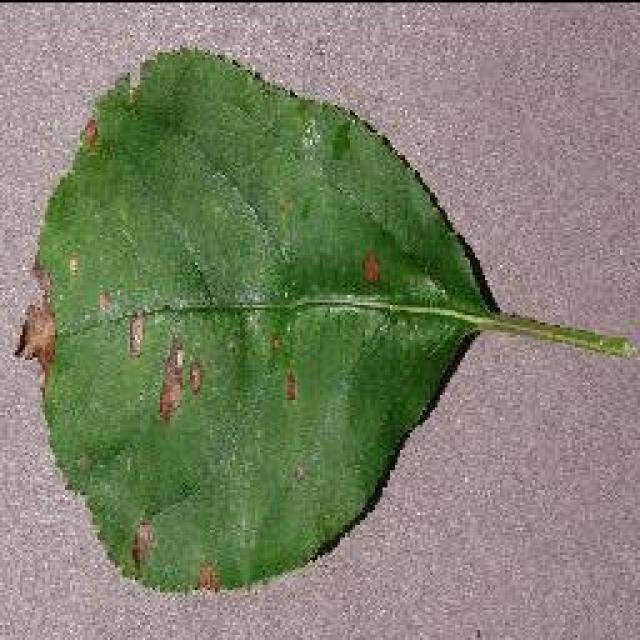Black_rot: (15, 43, 637, 595)
